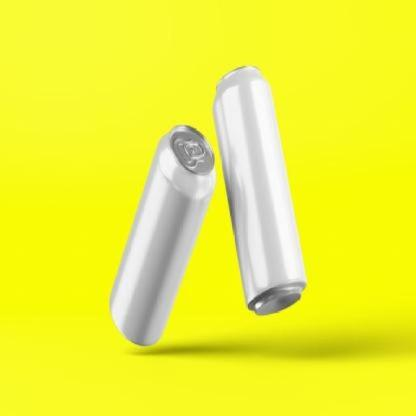Can: (210, 55, 326, 337), (107, 120, 219, 362)
